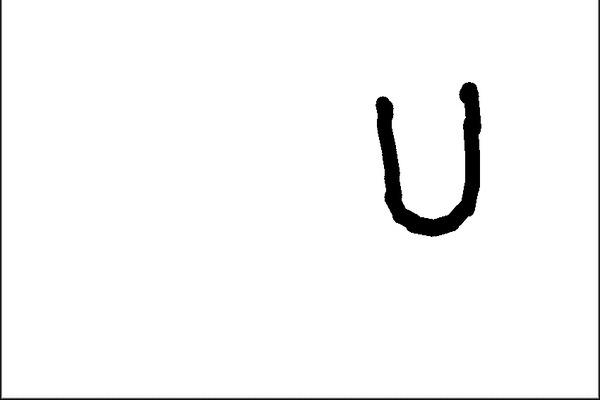U: (371, 68, 496, 244)
